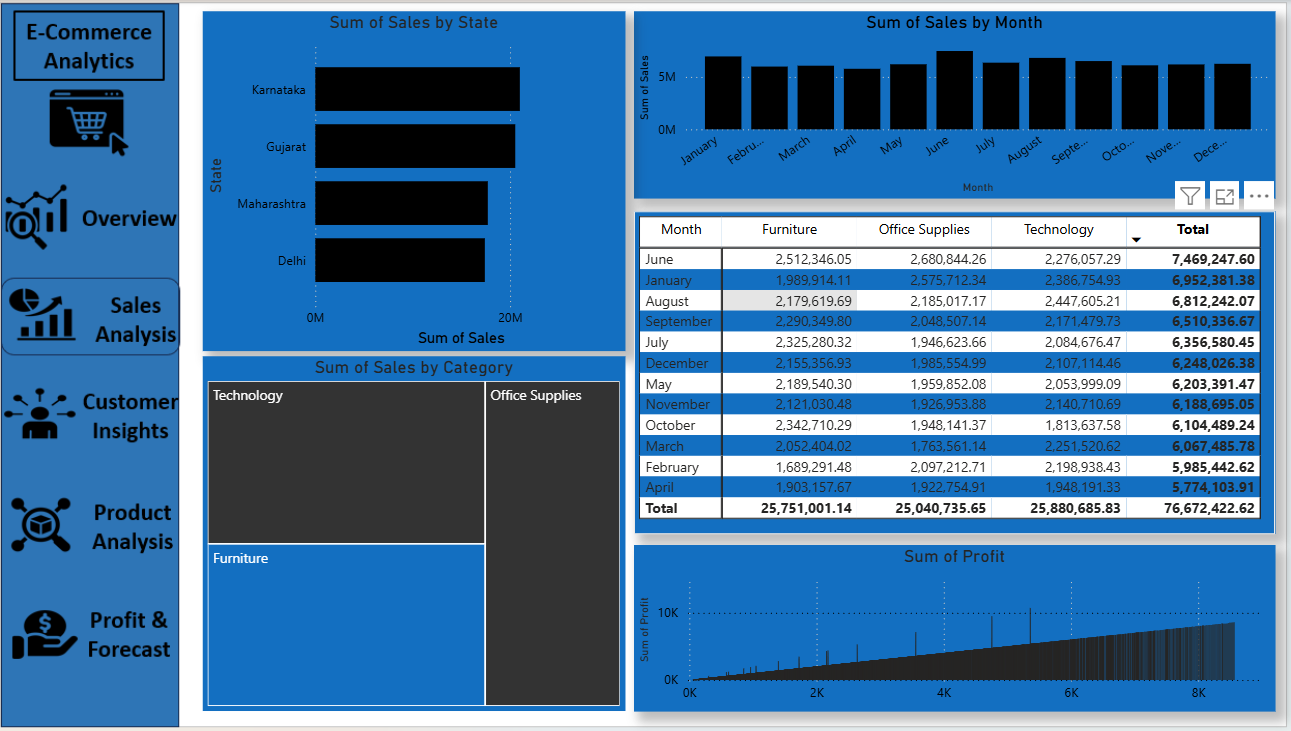

The page's visual inventory and layout, read from the dashboard file:
{"tool":"powerbi","page":{"name":"Sales Analysis","canvas":[1280,720],"ordinal":1},"visuals":[{"type":"actionButton","box":[24.7,262.1,175.6,76.8],"z":0},{"type":"actionButton","box":[24.7,359.5,175.6,71.4],"z":1000},{"type":"actionButton","box":[24.7,467.9,175.6,72.7],"z":2000},{"type":"actionButton","box":[24.7,575,175.6,75.5],"z":3000},{"type":"actionButton","box":[13.7,164.7,175.6,78.2],"z":4000},{"type":"lineStackedColumnComboChart","fields":{"Category":["Orders_Data.Order Date.Variation.Date Hierarchy.Month"],"Y":["Sum(Orders_Data.Sales)"]},"box":[627.3,10.9,618.9,181],"z":5000},{"type":"clusteredBarChart","fields":{"Category":["Orders_Data.State"],"Y":["Sum(Orders_Data.Sales)"]},"box":[211.1,10.9,407.8,328.2],"z":6000},{"type":"treemap","fields":{"Group":["Orders_Data.Category"],"Values":["Sum(Orders_Data.Sales)"]},"box":[211.1,343.8,407.8,342.6],"z":7000},{"type":"pivotTable","fields":{"Columns":["Orders_Data.Category"],"Rows":["Orders_Data.Order Date.Variation.Date Hierarchy.Month"],"Values":["Sum(Orders_Data.Sales)"]},"box":[627.3,203.9,618.9,311.3],"z":8000},{"type":"ribbonChart","title":"Sum of Profit","fields":{"Category":["Orders_Data.Profit"],"Y":["Sum(Orders_Data.Profit)"]},"box":[627.3,526,618.9,160.5],"z":9000}]}

Visuals, with their boxes in screenshot pixels (x1, y1, x2, y2), scaled from the page's 1280x720 canvas onto the 1291x731 screenshot:
actionButton: rect(25, 266, 202, 344)
actionButton: rect(25, 365, 202, 437)
actionButton: rect(25, 475, 202, 549)
actionButton: rect(25, 584, 202, 660)
actionButton: rect(14, 167, 191, 247)
lineStackedColumnComboChart - Orders_Data.Order Date.Variation.Date Hierarchy.Month x Sum(Orders_Data.Sales): rect(633, 11, 1257, 195)
clusteredBarChart - Orders_Data.State x Sum(Orders_Data.Sales): rect(213, 11, 624, 344)
treemap - Orders_Data.Category x Sum(Orders_Data.Sales): rect(213, 349, 624, 697)
pivotTable - Orders_Data.Category x Orders_Data.Order Date.Variation.Date Hierarchy.Month: rect(633, 207, 1257, 523)
"Sum of Profit" ribbonChart: rect(633, 534, 1257, 697)
